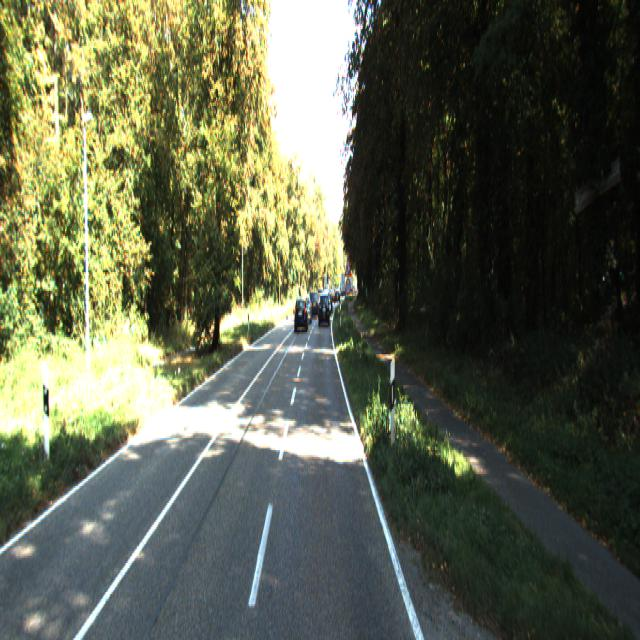Car: (294, 292, 308, 329), (318, 288, 329, 322)
